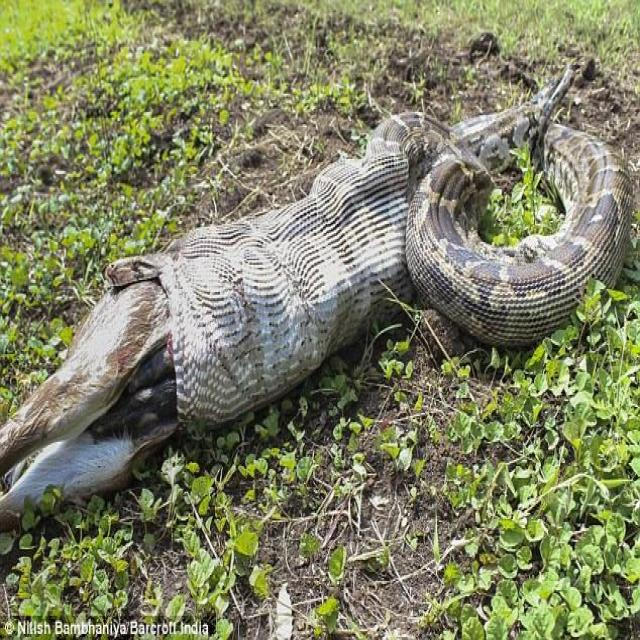Snake: (0, 61, 634, 531)
